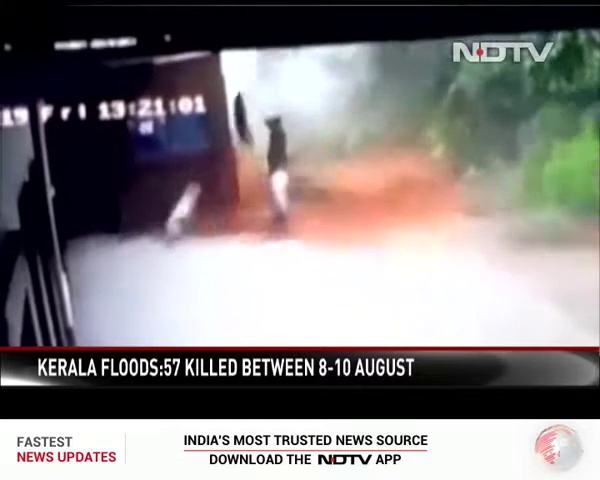person: (261, 113, 287, 232)
